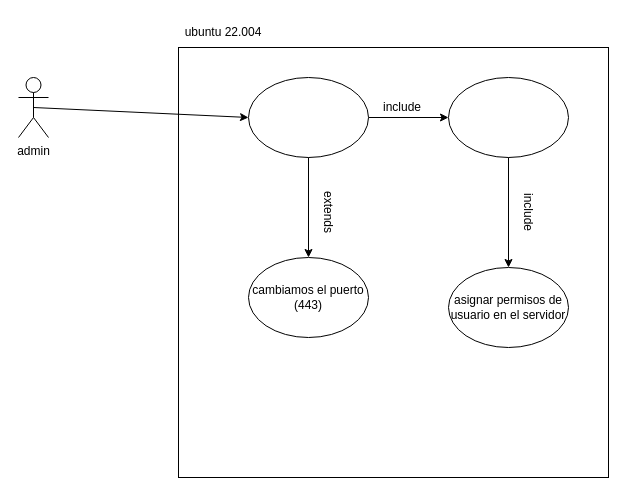
This 626x495 diagram has some shape labels left out. Each missing label, with the centre of its shape:
"creamos ssh" belongs at [308,117].
"crear archivo authorized_keys" belongs at [508,117].
